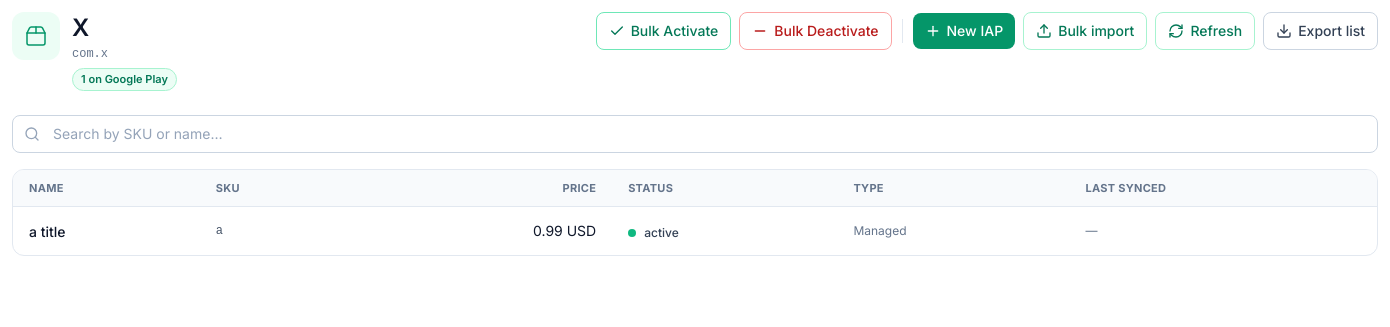
Test: IapListClient — Refresh that did not count as complete › a complete refresh shows no warning
The width and height of the screenshot is (1390, 327).
Click the button "Refresh". click: click(1205, 31)
box: left=1155, top=12, right=1255, bottom=50
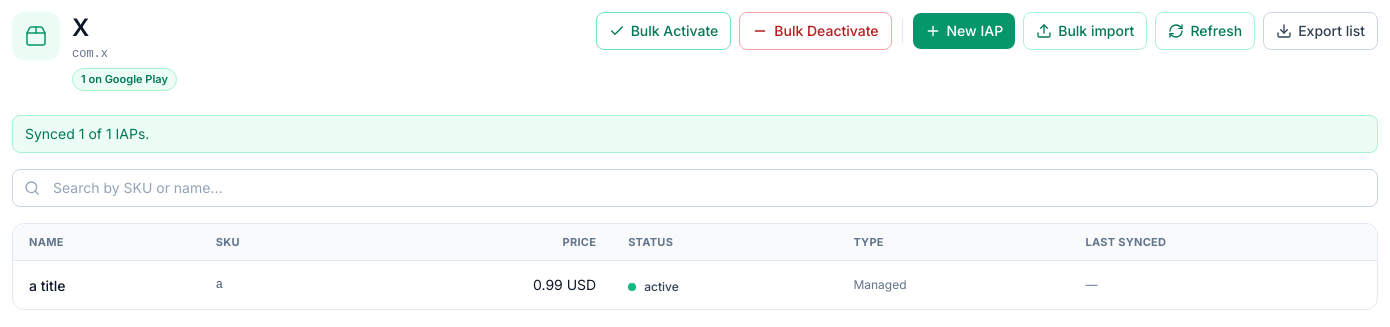
Now the text "Synced 1 of 1 IAPs." is shown, box left=12, top=114, right=1378, bottom=152
